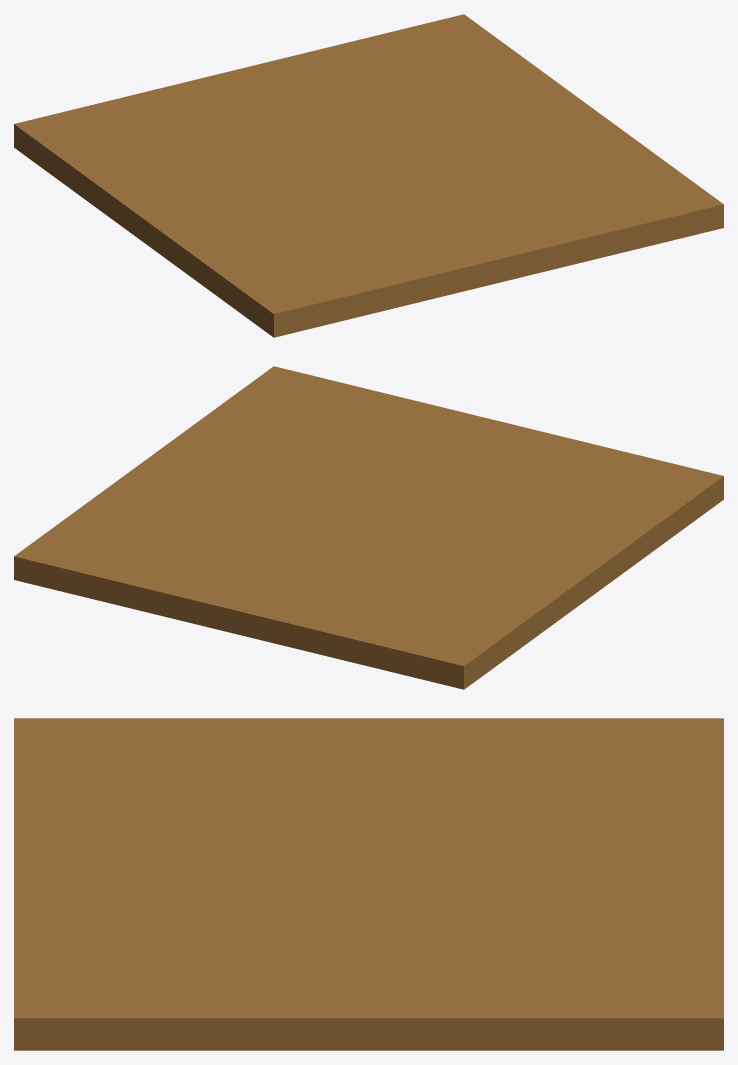
File: MOD_Floor.fbx
3 renders of one model, top to bottom at view 1: azimuth 30°, elevation 25°; view 2: azimuth 150°, elevation 25°; view 3: azimuth 270°, elevation 25°, orthographic. The views are drawn at different scales.
Parts seen in each view (by area): view 1: Floor; view 2: Floor; view 3: Floor.
Boxes of the visible parts, <box> form: Floor: <box>14,14,723,337</box>; Floor: <box>14,366,723,689</box>; Floor: <box>14,718,723,1050</box>.
Bounding box in the file's own units: 200 × 10 × 200.
